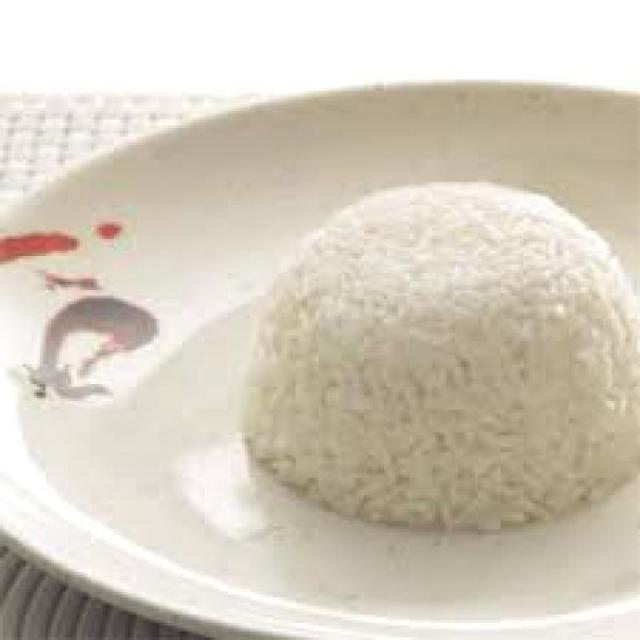Rice: (239, 182, 638, 538)
